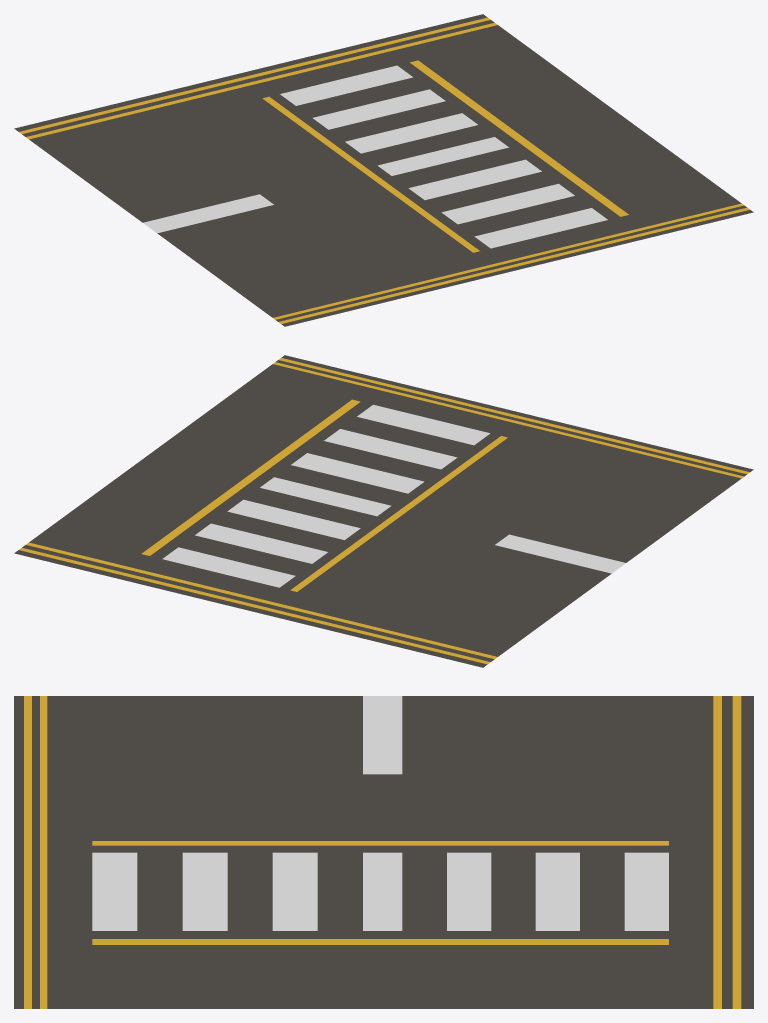
File: RoadCrossing.glb
The picture shows the model from 3 angles, top to bottom: view 1: azimuth 30°, elevation 25°; view 2: azimuth 150°, elevation 25°; view 3: azimuth 270°, elevation 25°; orthographic projection. The views are drawn at different scales.
Parts seen in each view (by area): view 1: Plane.012; view 2: Plane.012; view 3: Plane.012.
Part boxes in pixels (bbox=[...]): Plane.012: bbox=[14, 14, 753, 326]; Plane.012: bbox=[14, 355, 753, 667]; Plane.012: bbox=[14, 696, 753, 1008].
Bounding box in the file's own units: 20 × 0 × 20.
